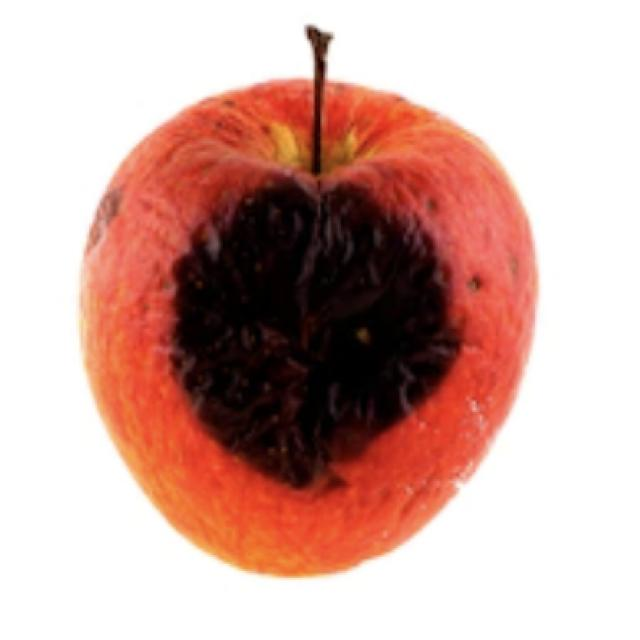rotten_apple: (80, 33, 538, 581)
